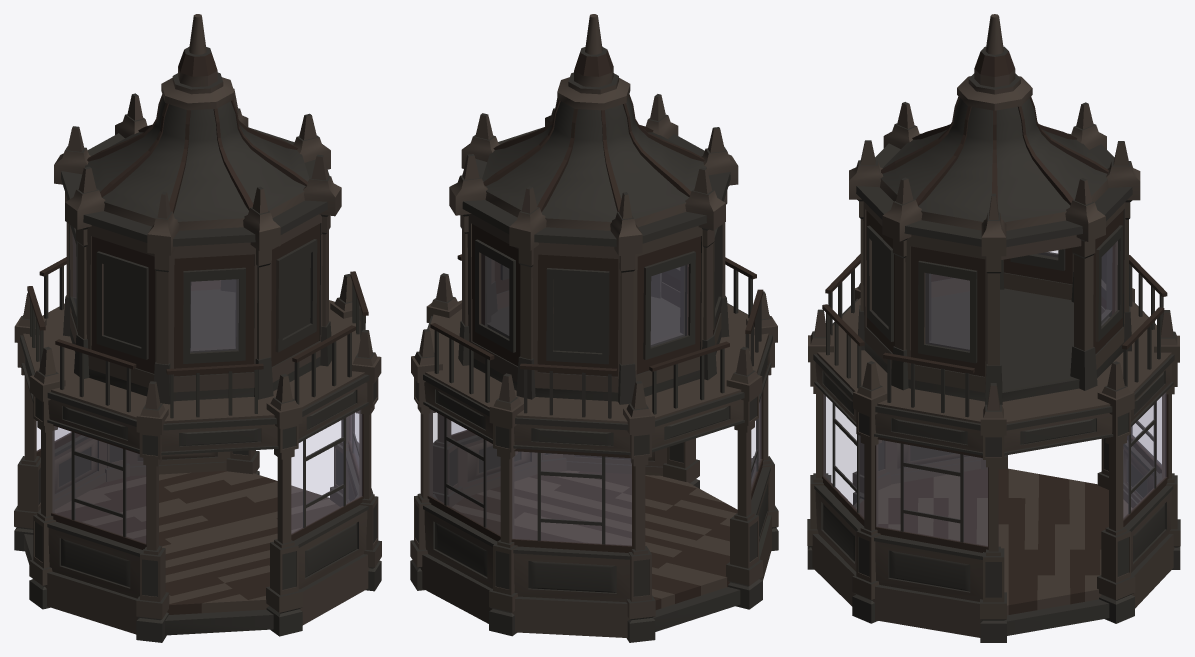
Rendered from arbour__low_poly.glb.
The picture shows the model from 3 angles, left to right: view 1: azimuth 30°, elevation 25°; view 2: azimuth 150°, elevation 25°; view 3: azimuth 270°, elevation 25°; orthographic projection.
Visible parts, largest first — view 1: Cylinder.003; view 2: Cylinder.003; view 3: Cylinder.003.
Boxes of the visible parts, x1,y1,x2,y2 form: Cylinder.003: [14, 14, 381, 642]; Cylinder.003: [410, 14, 778, 642]; Cylinder.003: [807, 14, 1180, 642].
Size of the model in its own units: 12.32 by 19.99 by 12.32.
